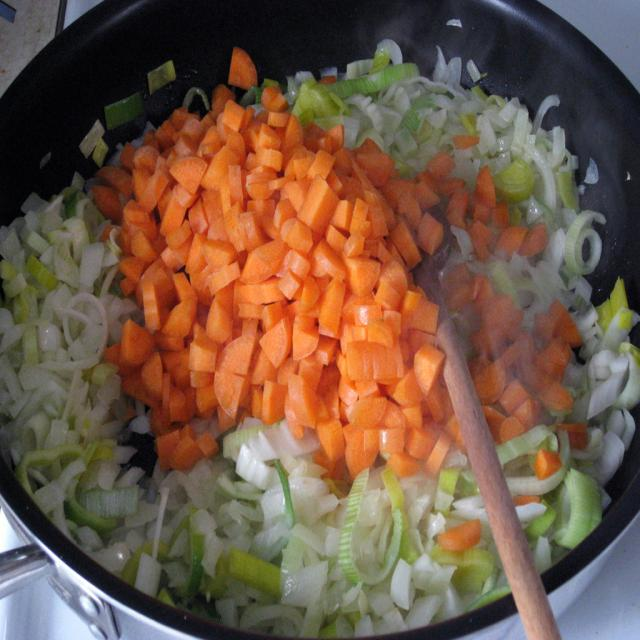carrot: (98, 87, 457, 563)
